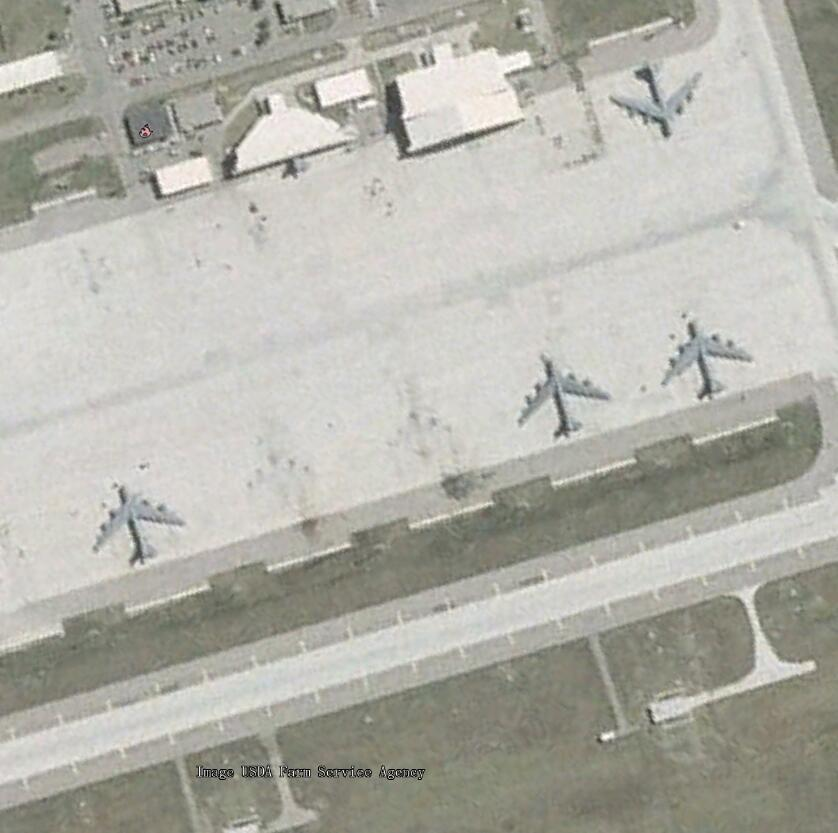A8: (511, 352, 612, 442), (659, 312, 755, 405), (91, 484, 190, 566), (609, 60, 705, 140)
